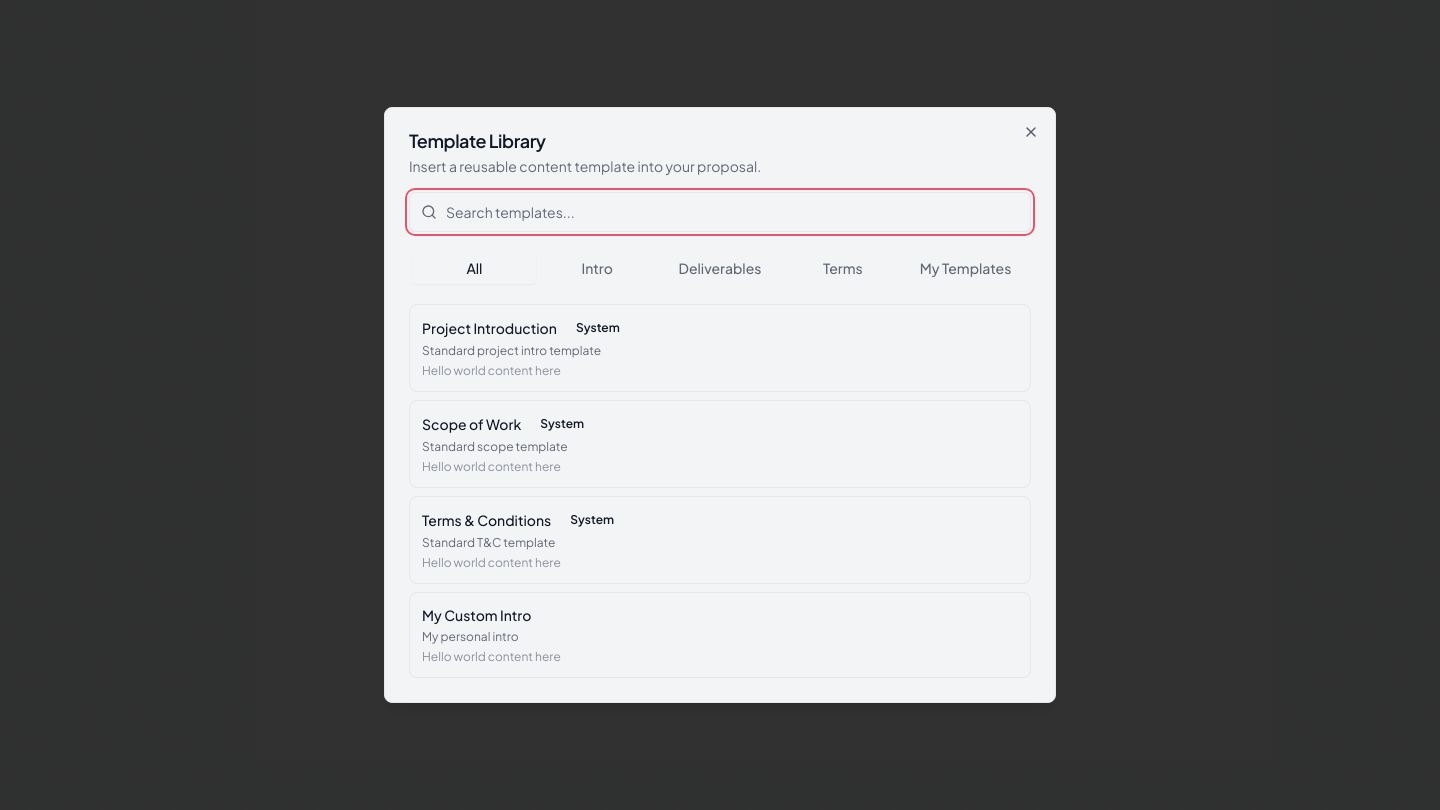
it: TemplateLibrary › filters templates by category tab
Click the tab "Terms" at (843, 268), box [781,252,904,284]
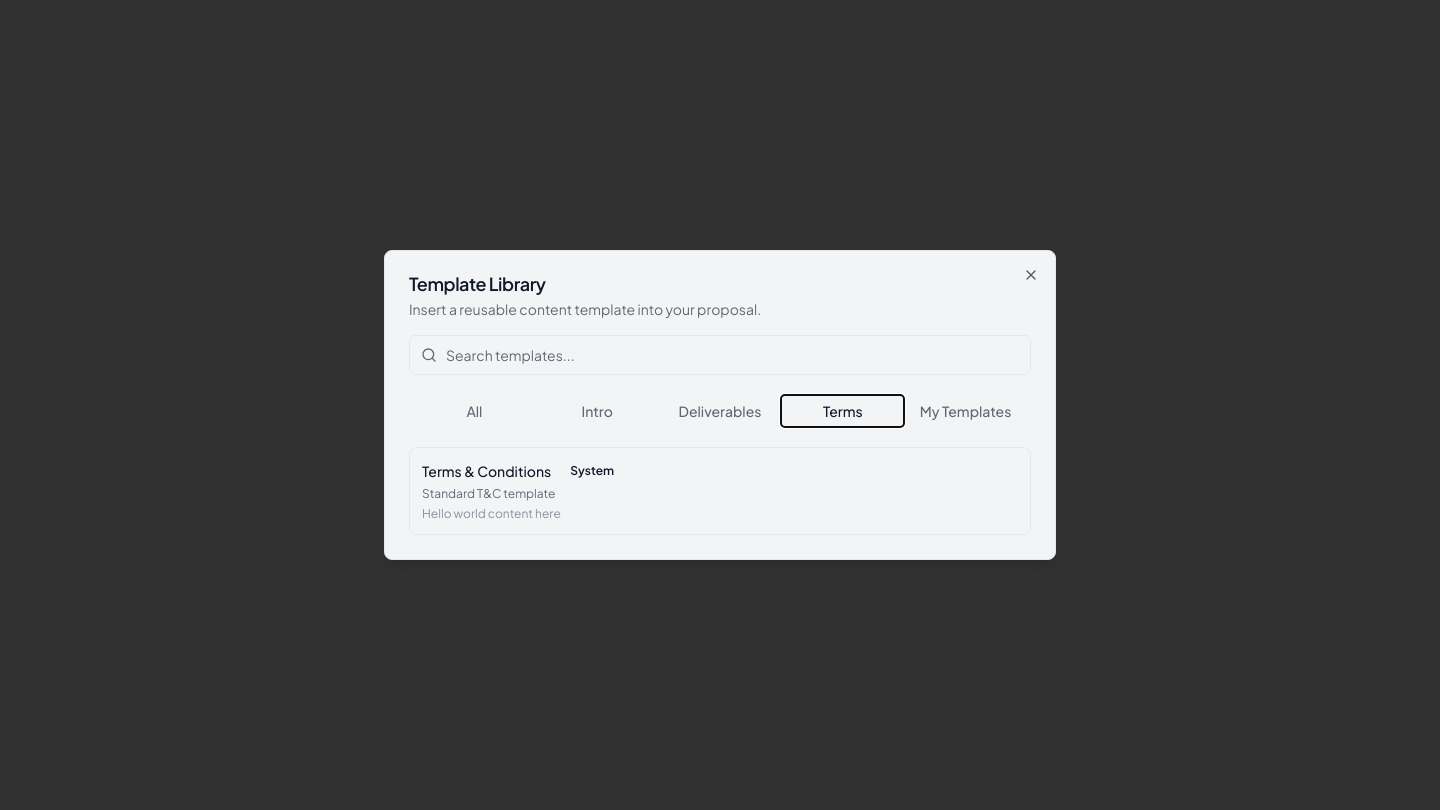
Expected: the text "Terms & Conditions" is shown, [422,461,551,481]
Expected: the button "Project Introduction" is gone
Expected: the button "Scope of Work" is gone
